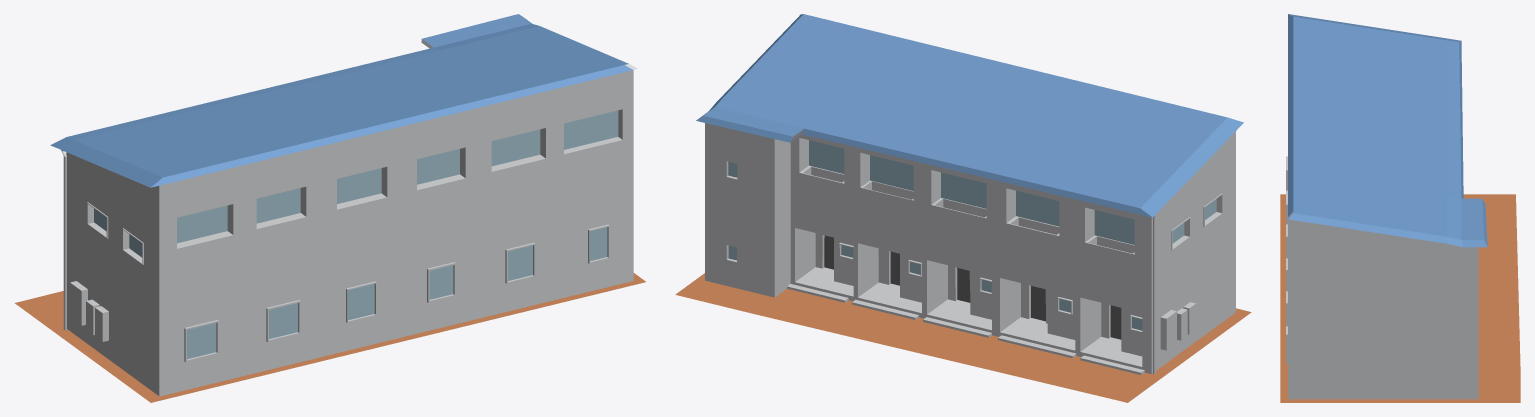
The model's file is house_ver4_0914.fbx.
3 renders of one model, left to right at view 1: azimuth 30°, elevation 25°; view 2: azimuth 150°, elevation 25°; view 3: azimuth 270°, elevation 25°, orthographic. The views are drawn at different scales.
Visible parts, largest first — view 1: Cube; view 2: Cube; view 3: Cube.
Part boxes in pixels (x1,y1,x2,y2): Cube: [15, 14, 645, 402]; Cube: [675, 14, 1251, 402]; Cube: [1280, 14, 1520, 402].
Bounding box in the file's own units: 1609 × 667 × 782.
